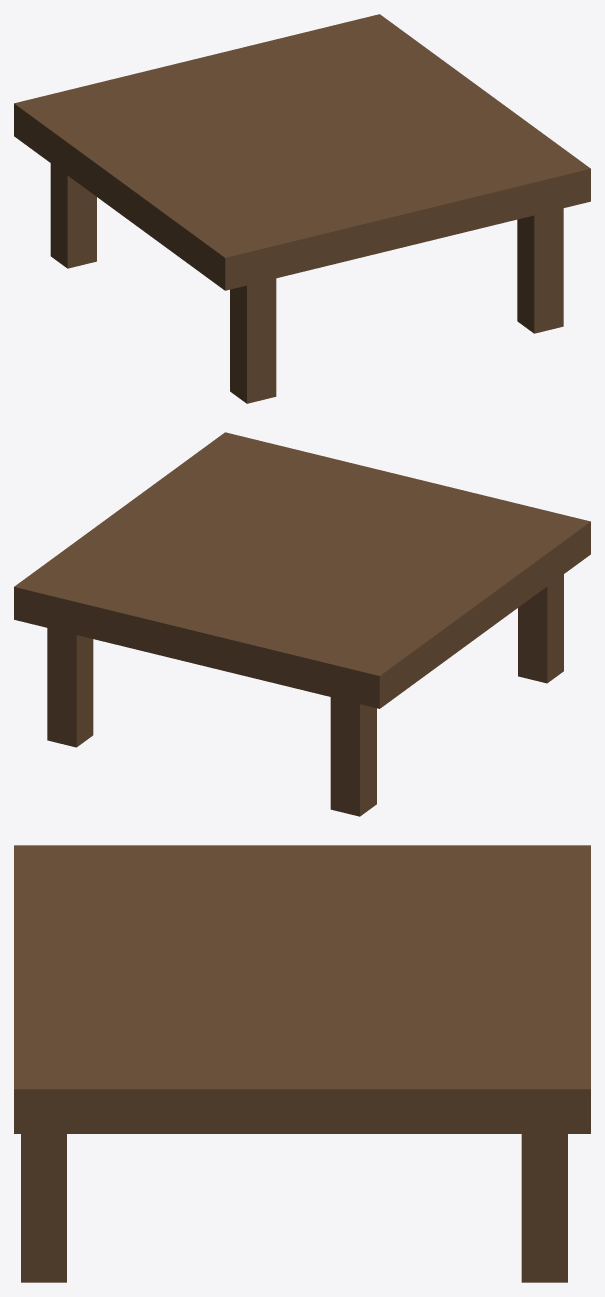
Rendered from table.glb.
The picture shows the model from 3 angles, top to bottom: view 1: azimuth 30°, elevation 25°; view 2: azimuth 150°, elevation 25°; view 3: azimuth 270°, elevation 25°; orthographic projection. The views are drawn at different scales.
Parts seen in each view (by area): view 1: Cube.004, Cube.003, Cube, Cube.002; view 2: Cube.004, Cube.002, Cube.001, Cube.003; view 3: Cube.004, Cube.001, Cube.
Boxes of the visible parts, left/top/right/bottom form: Cube.004: left=14, top=14, right=590, bottom=290; Cube.003: left=230, top=278, right=276, bottom=403; Cube: left=517, top=208, right=563, bottom=333; Cube.002: left=50, top=163, right=96, bottom=268; Cube.004: left=14, top=432, right=590, bottom=708; Cube.002: left=330, top=697, right=376, bottom=816; Cube.001: left=47, top=628, right=93, bottom=747; Cube.003: left=518, top=574, right=563, bottom=683; Cube.004: left=14, top=845, right=590, bottom=1133; Cube.001: left=521, top=1134, right=567, bottom=1282; Cube: left=21, top=1134, right=66, bottom=1282.
Size of the model in its own units: 1.75 by 0.7029 by 1.75.
